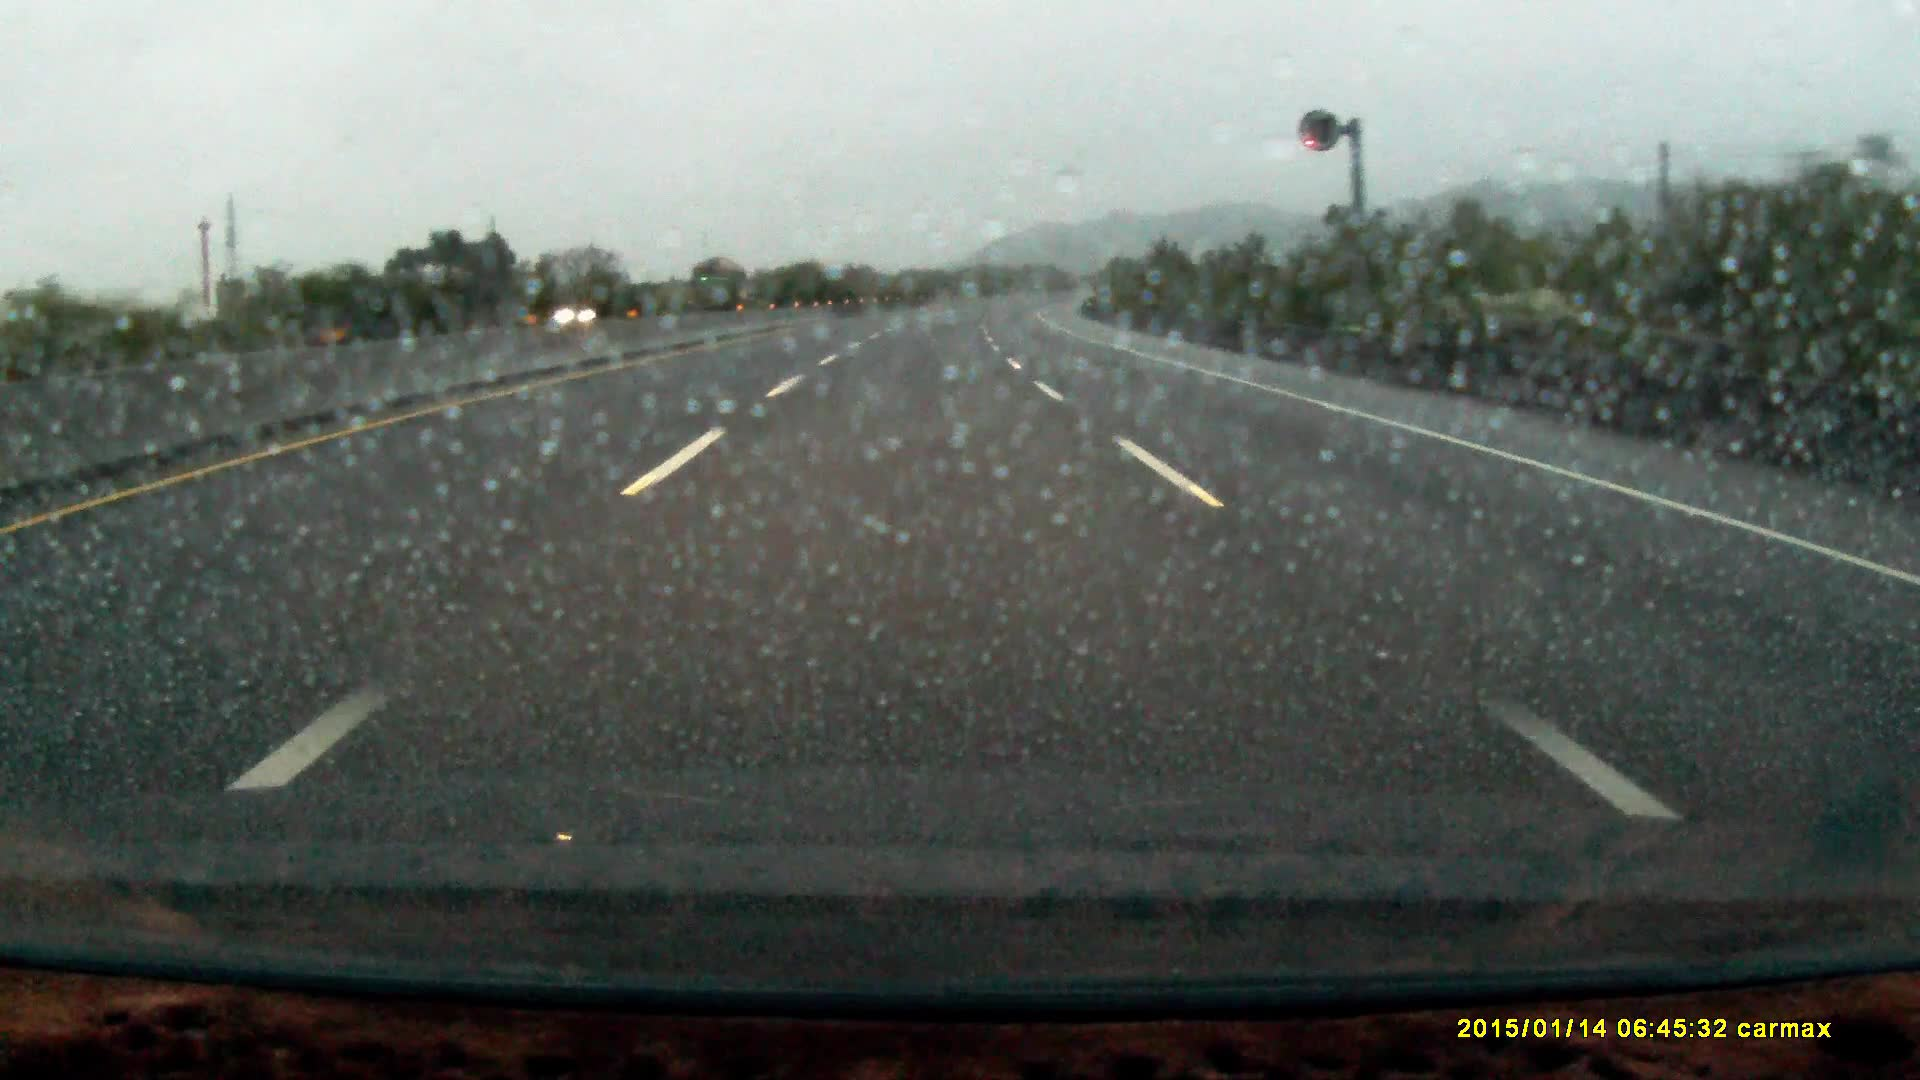vehicle: (682, 258, 741, 310), (554, 295, 618, 323)
